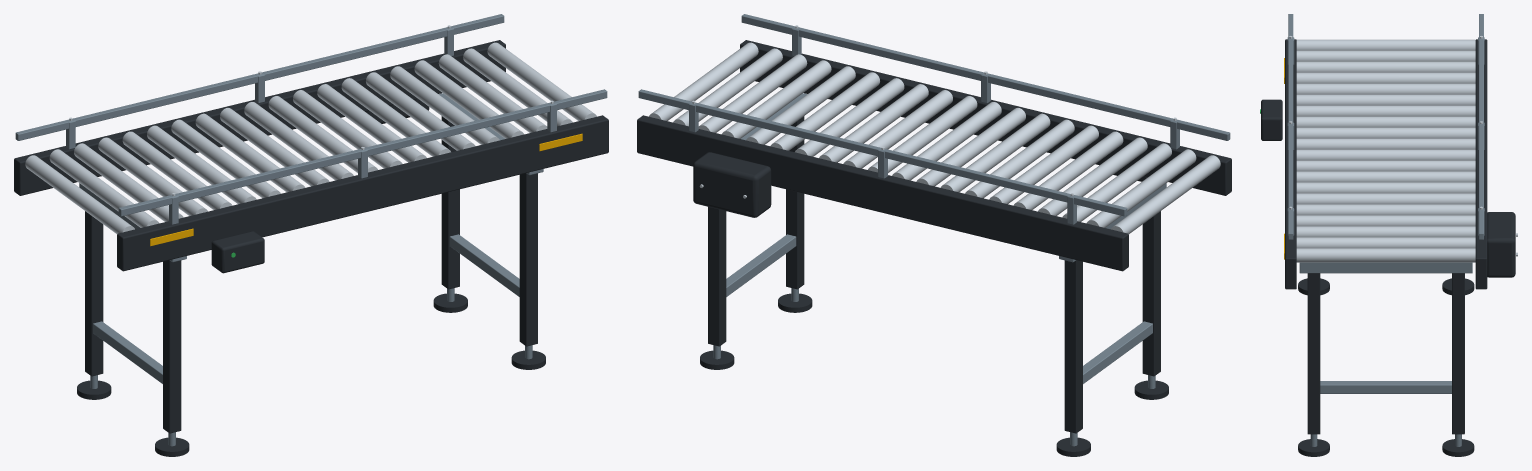
The model's file is roller_conveyor_1800.glb.
3 renders of one model, left to right at view 1: azimuth 30°, elevation 25°; view 2: azimuth 150°, elevation 25°; view 3: azimuth 270°, elevation 25°, orthographic. The views are drawn at different scales.
Visible parts, largest first — view 1: Folded side profile, Folded side profile.001, Guard rail.001, Guard rail, Square leg, Square leg.002, Square leg.001, ROLLER_01_01, Square leg.003, ROLLER_01_02, ROLLER_01_17, ROLLER_01_07 (+19 smaller); view 2: Folded side profile.001, Folded side profile, Guard rail, Guard rail.001, Drive cover, Square leg.001, Square leg, Square leg.003, ROLLER_01_01, Square leg.002, ROLLER_01_02, ROLLER_01_17 (+19 smaller); view 3: ROLLER_01_20, Square leg.002, Folded side profile.001, ROLLER_01_01, ROLLER_01_02, ROLLER_01_03, ROLLER_01_04, ROLLER_01_05, ROLLER_01_06, ROLLER_01_07, ROLLER_01_08, ROLLER_01_09 (+22 smaller).
Part boxes in pixels (x1,y1,x2,y2): Folded side profile: [117, 115, 608, 271]; Folded side profile.001: [14, 40, 505, 195]; Guard rail.001: [15, 14, 504, 140]; Guard rail: [118, 89, 607, 216]; Square leg: [163, 260, 181, 433]; Square leg.002: [519, 173, 537, 346]; Square leg.001: [85, 211, 103, 376]; ROLLER_01_01: [25, 155, 134, 233]; Square leg.003: [441, 116, 459, 289]; ROLLER_01_02: [49, 149, 159, 227]; ROLLER_01_17: [414, 60, 524, 138]; ROLLER_01_07: [171, 119, 280, 198]; Folded side profile.001: [637, 115, 1128, 271]; Folded side profile: [740, 40, 1231, 195]; Guard rail: [741, 14, 1230, 140]; Guard rail.001: [638, 89, 1127, 216]; Drive cover: [693, 152, 771, 217]; Square leg.001: [1064, 260, 1082, 433]; Square leg: [1142, 211, 1160, 376]; Square leg.003: [708, 207, 726, 346]; ROLLER_01_01: [1111, 155, 1220, 233]; Square leg.002: [786, 116, 804, 289]; ROLLER_01_02: [1086, 149, 1196, 227]; ROLLER_01_17: [721, 60, 831, 138]; ROLLER_01_20: [1296, 248, 1475, 262]; Square leg.002: [1307, 273, 1320, 434]; Folded side profile.001: [1475, 39, 1487, 289]; ROLLER_01_01: [1296, 39, 1475, 50]; ROLLER_01_02: [1296, 50, 1475, 61]; ROLLER_01_03: [1296, 61, 1475, 72]; ROLLER_01_04: [1296, 72, 1475, 83]; ROLLER_01_05: [1296, 83, 1475, 94]; ROLLER_01_06: [1296, 94, 1475, 105]; ROLLER_01_07: [1296, 105, 1475, 116]; ROLLER_01_08: [1296, 116, 1475, 127]; ROLLER_01_09: [1296, 127, 1475, 138].
Bounding box in the file's own units: 1.8 × 0.947 × 0.8925.
